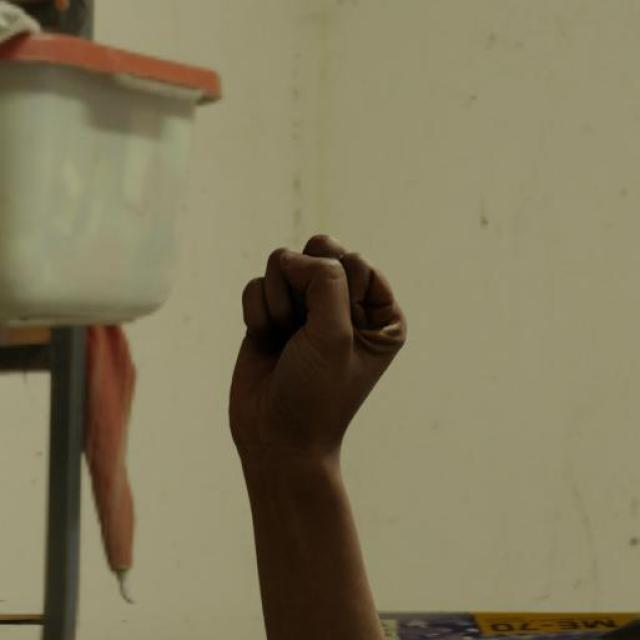S: (221, 223, 415, 472)
